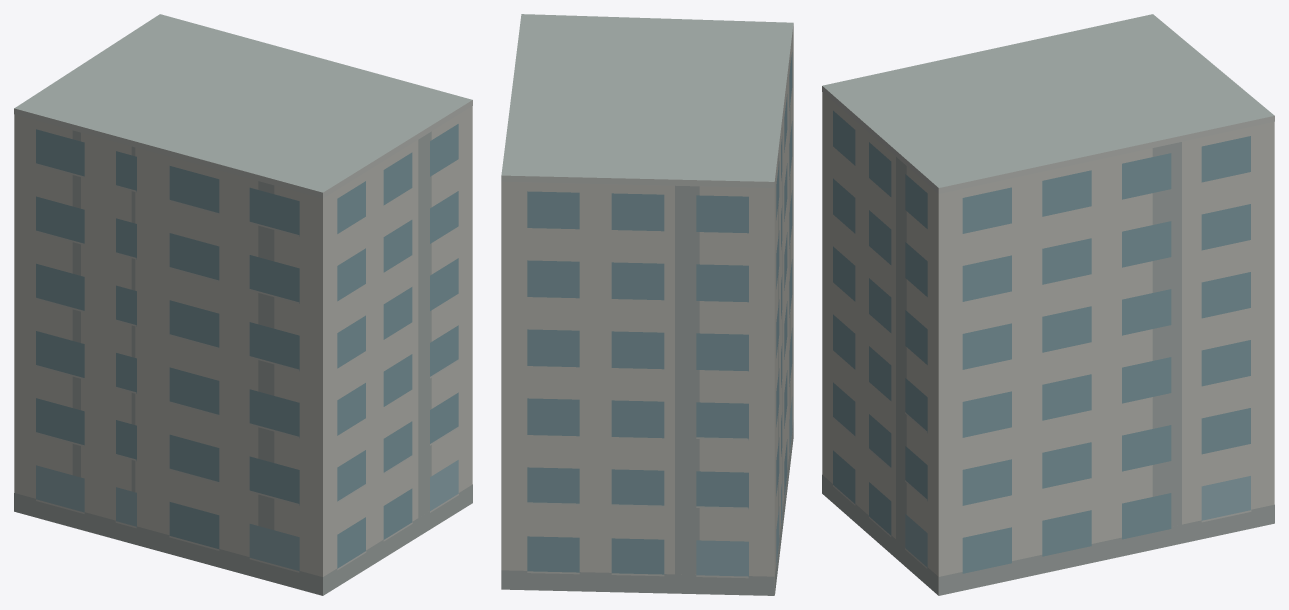
Rendered from survey-upis-32822725.glb.
The picture shows the model from 3 angles, left to right: view 1: azimuth 30°, elevation 25°; view 2: azimuth 150°, elevation 25°; view 3: azimuth 270°, elevation 25°; orthographic projection. The views are drawn at different scales.
Parts seen in each view (by area): view 1: survey-upis-32822725.tmp; view 2: survey-upis-32822725.tmp; view 3: survey-upis-32822725.tmp.
Boxes of the visible parts, bbox=[...] form: survey-upis-32822725.tmp: bbox=[14, 14, 472, 595]; survey-upis-32822725.tmp: bbox=[501, 14, 793, 595]; survey-upis-32822725.tmp: bbox=[822, 14, 1274, 595].
Size of the model in its own units: 14.93 by 16.3 by 16.41.
